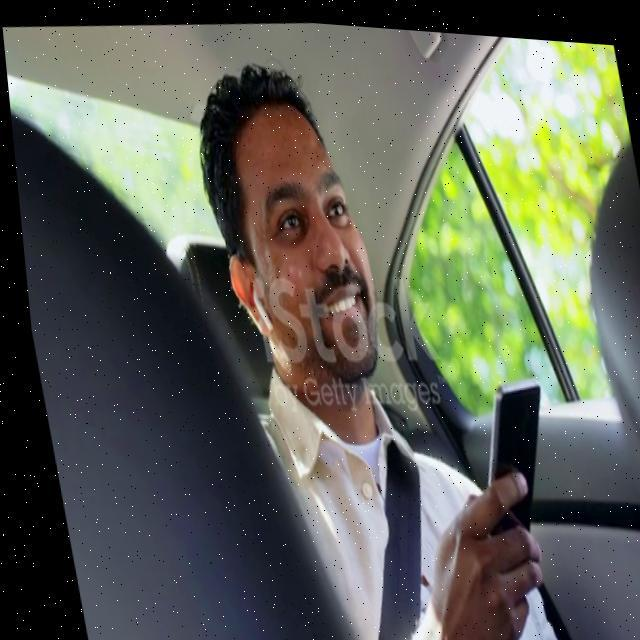PhoneCall: (459, 370, 560, 543)
